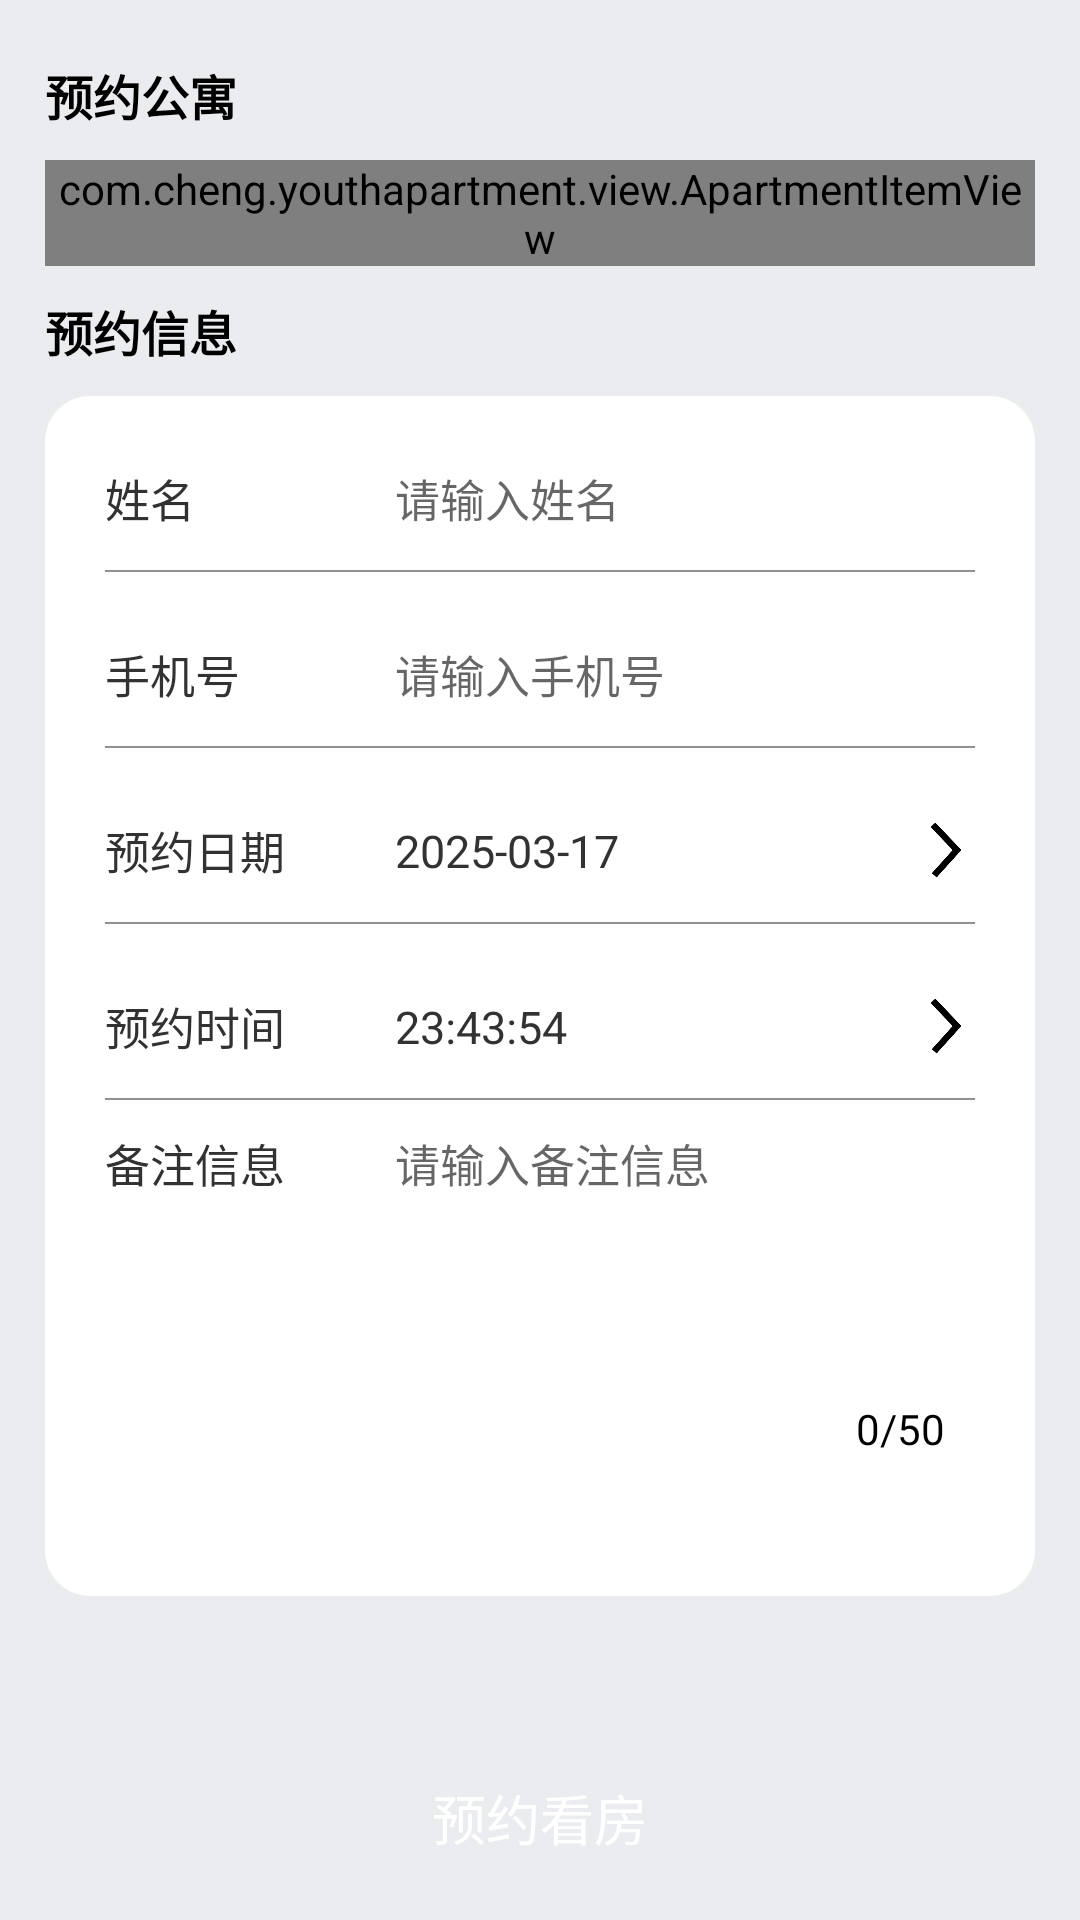

Icon bounding boxes for this 1080 × 1920 phone screenshot, format (x1, y1, x2, y2):
right arrow: (931, 823, 961, 877), (931, 999, 961, 1053)
